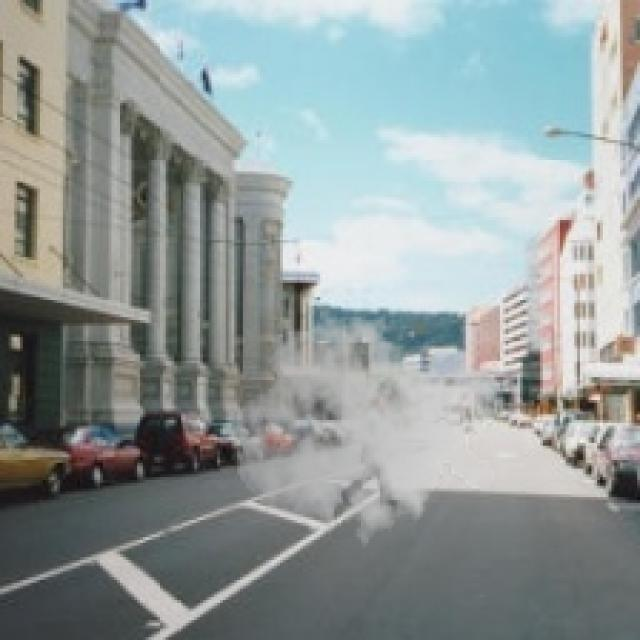smoke: (231, 300, 506, 560)
